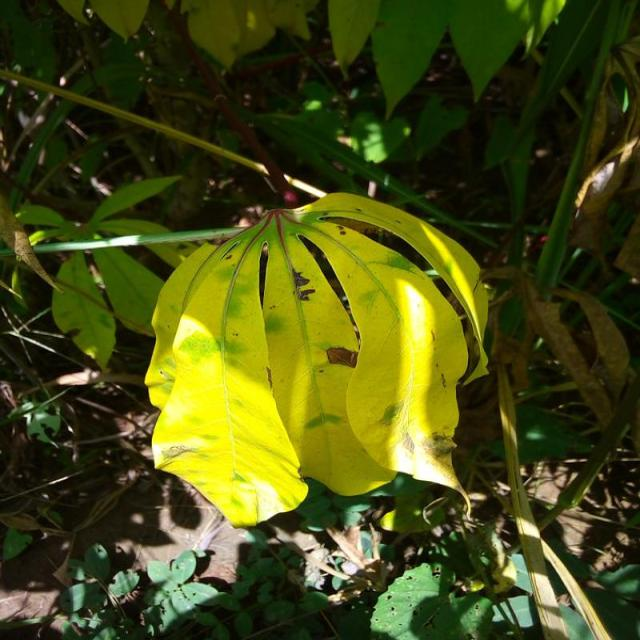cassava leaf: (143, 190, 490, 530)
